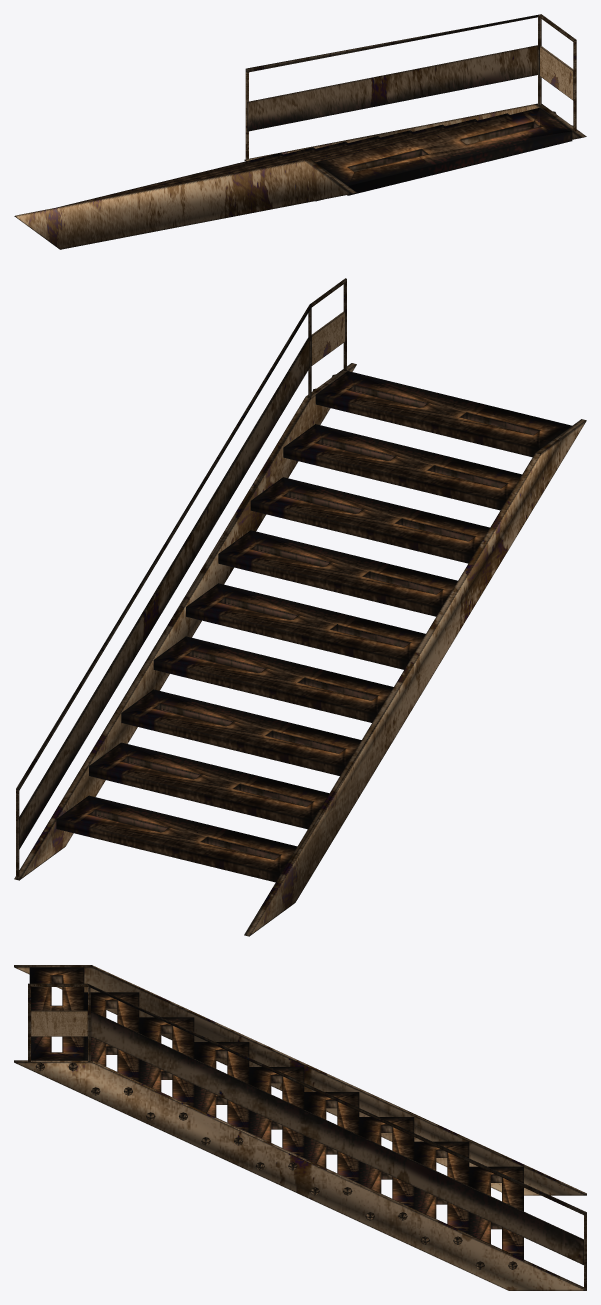
Rendered from fayry_stayry.fbx.
3 renders of one model, top to bottom at view 1: azimuth 30°, elevation 25°; view 2: azimuth 150°, elevation 25°; view 3: azimuth 270°, elevation 25°, orthographic. The views are drawn at different scales.
Visible parts, largest first — view 1: polySurface11, polySurface10, polySurface2, polySurface3, polySurface9, polySurface4, polySurface5, polySurface6, polySurface8, polySurface7; view 2: polySurface11, polySurface10, polySurface2, polySurface3, polySurface4, polySurface5, polySurface6, polySurface7, polySurface8, polySurface9; view 3: polySurface11, polySurface10, polySurface3, polySurface5, polySurface4, polySurface6, polySurface7, polySurface8, polySurface2, polySurface9.
Part boxes in pixels (x1,y1,x2,y2): polySurface11: [14, 14, 586, 249]; polySurface10: [316, 107, 572, 195]; polySurface2: [58, 153, 282, 207]; polySurface3: [100, 147, 315, 199]; polySurface9: [313, 113, 509, 201]; polySurface4: [144, 141, 347, 190]; polySurface5: [187, 136, 379, 182]; polySurface6: [229, 130, 412, 174]; polySurface8: [311, 119, 476, 160]; polySurface7: [271, 124, 444, 166]; polySurface11: [14, 278, 586, 936]; polySurface10: [315, 371, 571, 457]; polySurface2: [56, 795, 297, 882]; polySurface3: [89, 742, 329, 829]; polySurface4: [121, 689, 361, 775]; polySurface5: [153, 636, 393, 722]; polySurface6: [186, 583, 425, 669]; polySurface7: [218, 530, 457, 616]; polySurface8: [250, 477, 489, 563]; polySurface9: [283, 424, 521, 510]; polySurface11: [14, 965, 586, 1290]; polySurface10: [29, 967, 84, 1060]; polySurface3: [414, 1141, 469, 1233]; polySurface5: [304, 1092, 359, 1183]; polySurface4: [359, 1117, 414, 1208]; polySurface6: [249, 1067, 304, 1157]; polySurface7: [194, 1042, 249, 1132]; polySurface8: [139, 1017, 194, 1106]; polySurface2: [469, 1166, 523, 1259]; polySurface9: [84, 992, 139, 1081].
Bounding box in the file's own units: 4.28 × 6.14 × 10.43.
